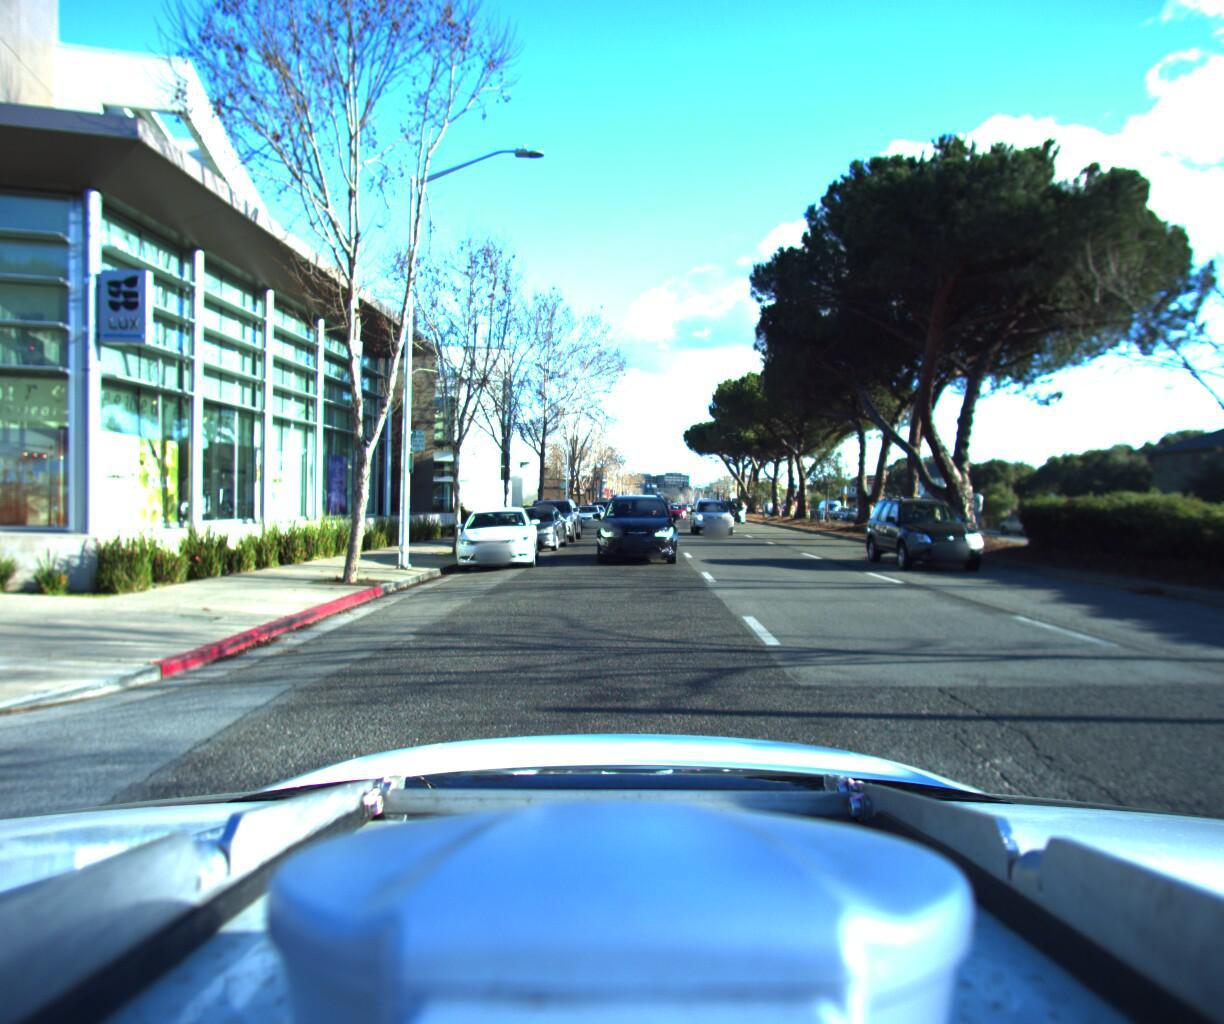car: (870, 477, 1029, 575), (590, 482, 674, 565), (447, 498, 540, 571), (497, 498, 570, 547), (522, 490, 583, 540), (692, 491, 742, 533), (716, 492, 752, 519), (568, 497, 605, 523), (665, 493, 688, 513)
other_vehicle: (912, 483, 986, 525), (879, 486, 934, 523)
